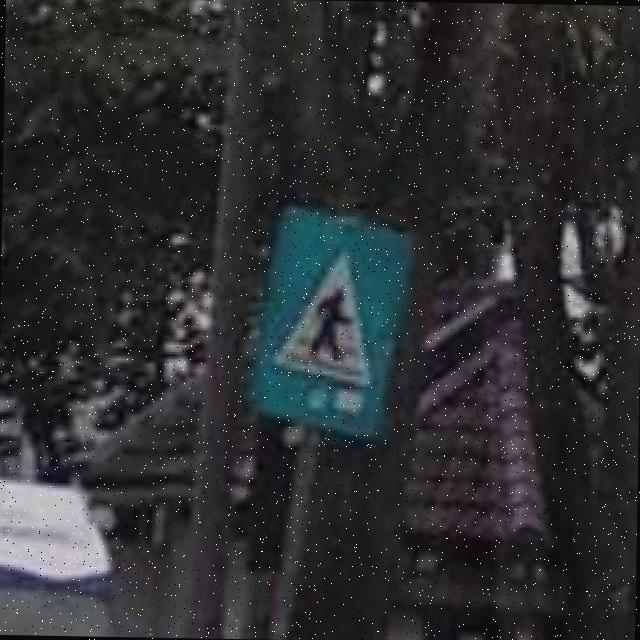Przejscie dla pieszych: (255, 203, 414, 441)
